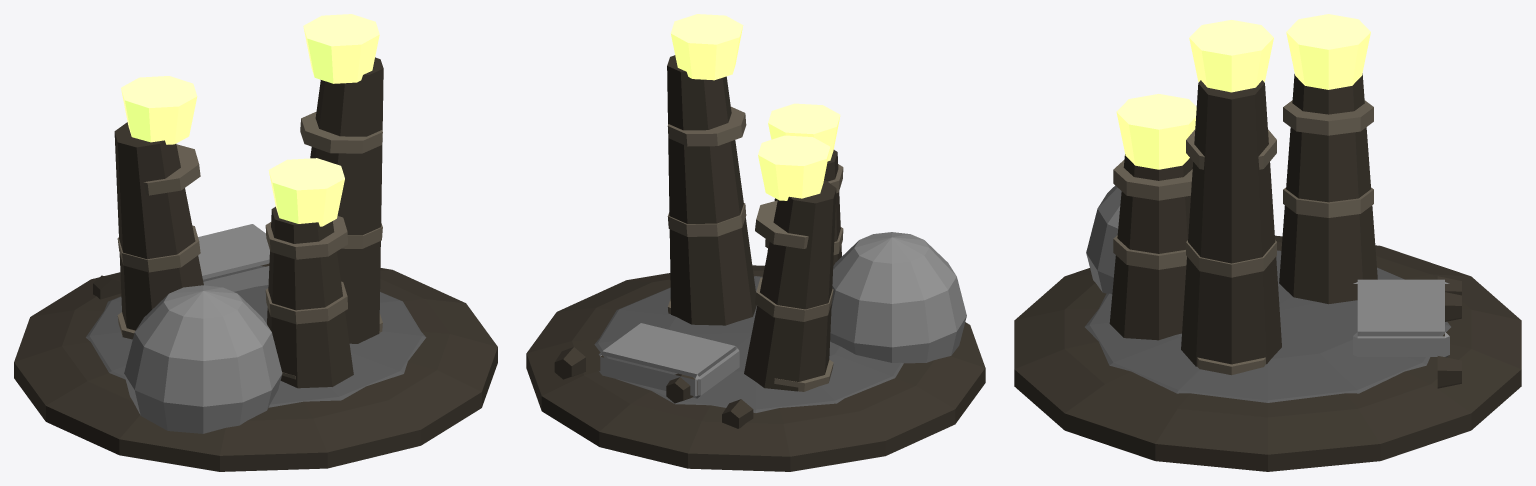
File: bl_vent.glb
The picture shows the model from 3 angles, left to right: view 1: azimuth 30°, elevation 25°; view 2: azimuth 150°, elevation 25°; view 3: azimuth 270°, elevation 25°; orthographic projection. The views are drawn at different scales.
Visible parts, largest first — view 1: body; view 2: body; view 3: body.
Boxes of the visible parts, <box> form: body: <box>14,14,497,471</box>; body: <box>526,14,985,471</box>; body: <box>1014,14,1521,471</box>.
Bounding box in the file's own units: 54.91 × 45.5 × 53.53.
